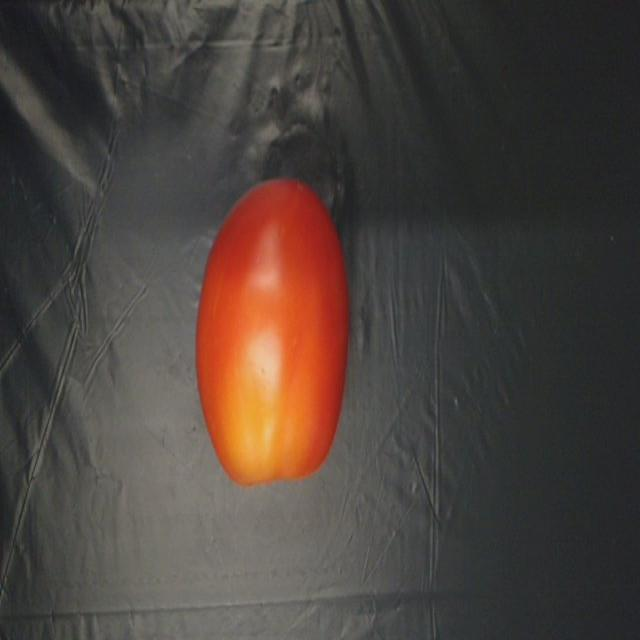sari: (173, 172, 358, 506)
